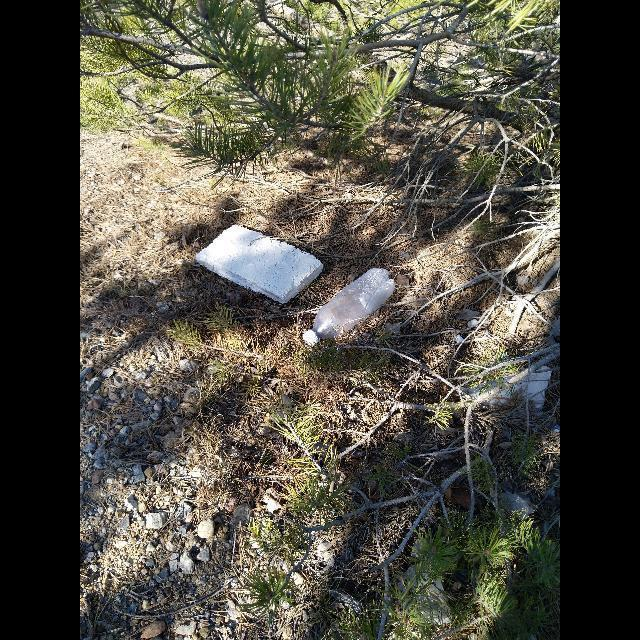Plastic: (196, 225, 324, 303), (303, 268, 395, 348), (398, 540, 452, 624)
